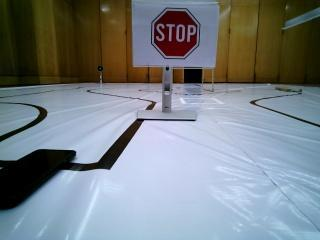stop: (135, 2, 214, 67)
